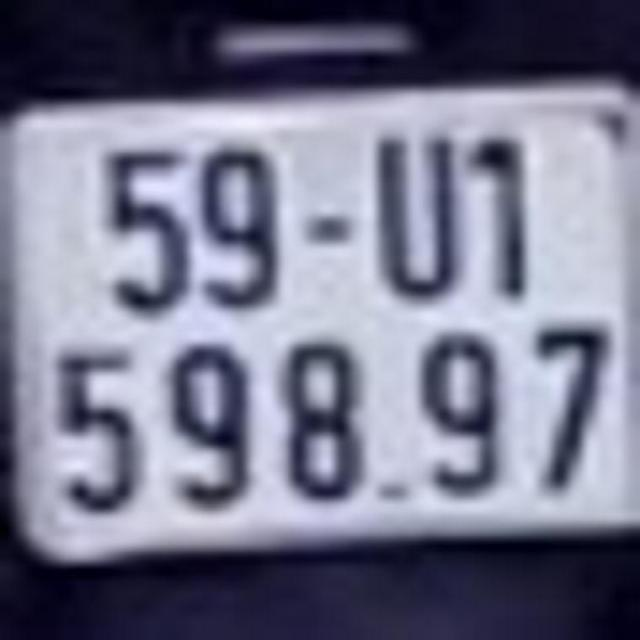1: (471, 127, 534, 296)
5: (104, 139, 190, 319), (48, 347, 140, 512)
7: (533, 324, 606, 492)
8: (283, 336, 362, 498)
9: (416, 326, 503, 499), (198, 142, 282, 312), (164, 342, 251, 500)
U: (368, 126, 458, 300)
